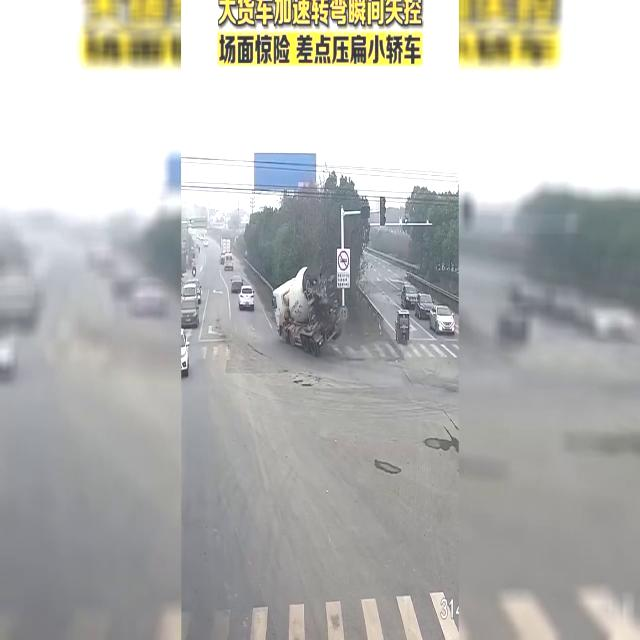accident: (268, 265, 350, 389)
non-accident: (395, 284, 455, 346), (416, 293, 454, 335), (400, 284, 436, 320), (181, 279, 203, 329), (230, 275, 256, 311), (220, 236, 234, 272)
